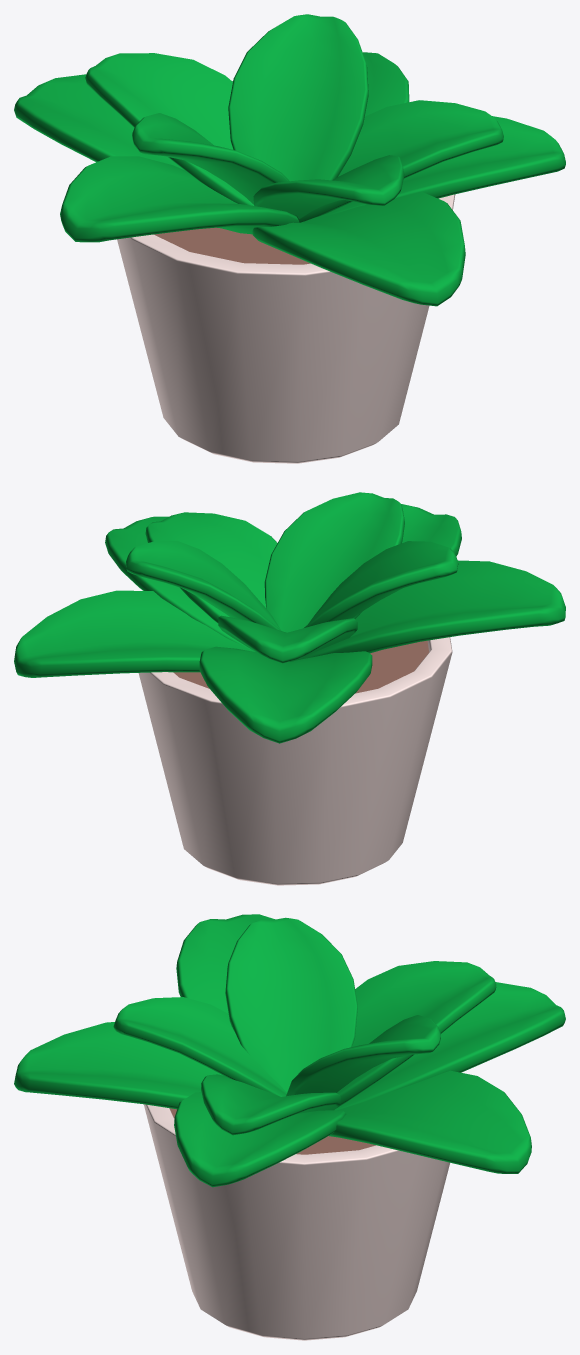
Rendered from Store_6_Plant_13.glb.
3 views of the same model, one above another, from view 1: azimuth 30°, elevation 25°; view 2: azimuth 150°, elevation 25°; view 3: azimuth 270°, elevation 25° (orthographic). The views are drawn at different scales.
Parts seen in each view (by area): view 1: Store_6_Plant_13; view 2: Store_6_Plant_13; view 3: Store_6_Plant_13.
Boxes of the visible parts, x1=… form: Store_6_Plant_13: x1=14, y1=14, x2=565, y2=463; Store_6_Plant_13: x1=14, y1=492, x2=565, y2=885; Store_6_Plant_13: x1=14, y1=914, x2=565, y2=1340.
Bounding box in the file's own units: 1.12 × 0.7229 × 1.17.
Materials: 1 (1 with a texture image).
